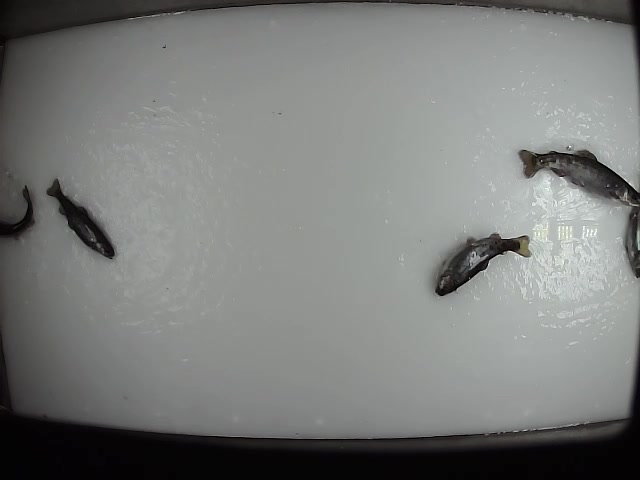fish: (513, 135, 640, 207), (434, 229, 532, 295), (43, 176, 118, 262)
